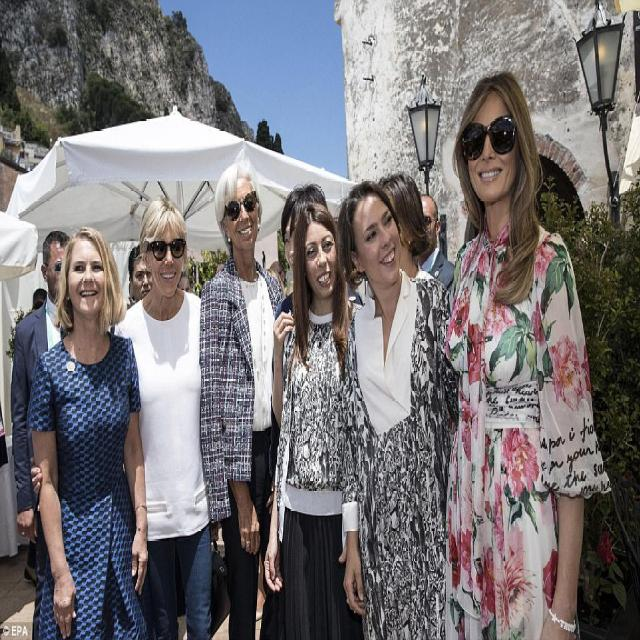body: (444, 71, 613, 639), (27, 193, 216, 640), (331, 175, 458, 640), (25, 223, 155, 639), (263, 202, 363, 640), (196, 156, 286, 640), (263, 180, 367, 518), (10, 228, 75, 640), (376, 170, 436, 280), (413, 191, 457, 297), (125, 242, 154, 304), (176, 262, 226, 297), (261, 249, 293, 302), (25, 536, 38, 588), (31, 284, 47, 312)
